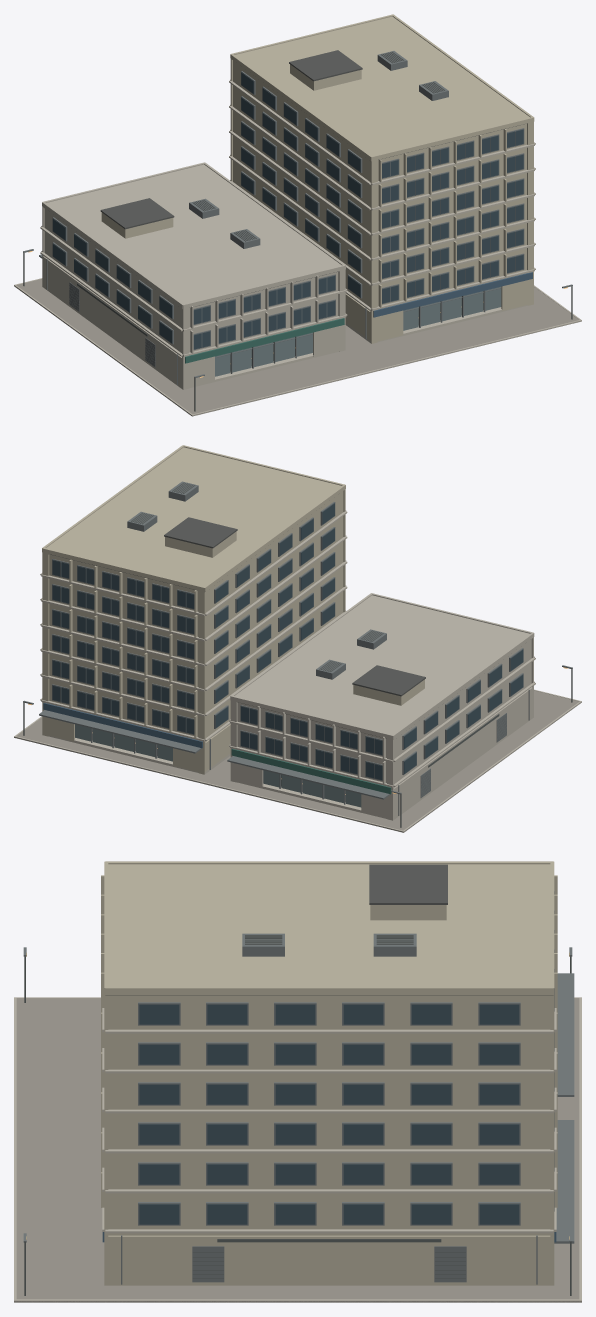
File: block-2-0.glb
The picture shows the model from 3 angles, top to bottom: view 1: azimuth 30°, elevation 25°; view 2: azimuth 150°, elevation 25°; view 3: azimuth 270°, elevation 25°; orthographic projection. The views are drawn at different scales.
Parts seen in each view (by area): view 1: block-2-0:stucco, block-2-0:concrete, block-2-0:glass, block-2-0:paversGrey, block-2-0:aluminium, block-2-0:shopGlass, block-2-0:roof, block-2-0:darkSteel, block-2-0:greenTrim, block-2-0:blueTrim; view 2: block-2-0:stucco, block-2-0:concrete, block-2-0:glass, block-2-0:aluminium, block-2-0:paversGrey, block-2-0:roof, block-2-0:shopGlass, block-2-0:darkSteel, block-2-0:greenTrim, block-2-0:blueTrim; view 3: block-2-0:stucco, block-2-0:paversGrey, block-2-0:glass, block-2-0:aluminium, block-2-0:concrete, block-2-0:roof, block-2-0:darkSteel.
Boxes of the visible parts, x1,y1,x2,y2 form: block-2-0:stucco: [101, 14, 534, 343]; block-2-0:concrete: [14, 79, 581, 416]; block-2-0:glass: [52, 72, 523, 349]; block-2-0:paversGrey: [14, 279, 580, 416]; block-2-0:aluminium: [23, 51, 572, 385]; block-2-0:shopGlass: [215, 286, 501, 376]; block-2-0:roof: [100, 50, 527, 306]; block-2-0:darkSteel: [23, 51, 572, 411]; block-2-0:greenTrim: [185, 318, 344, 363]; block-2-0:blueTrim: [373, 272, 532, 317]; block-2-0:stucco: [42, 445, 424, 774]; block-2-0:concrete: [14, 510, 581, 832]; block-2-0:glass: [52, 503, 523, 780]; block-2-0:aluminium: [23, 481, 572, 815]; block-2-0:paversGrey: [14, 690, 581, 832]; block-2-0:roof: [48, 517, 425, 738]; block-2-0:shopGlass: [75, 724, 361, 807]; block-2-0:darkSteel: [23, 482, 572, 827]; block-2-0:greenTrim: [231, 748, 391, 794]; block-2-0:blueTrim: [43, 703, 202, 748]; block-2-0:stucco: [101, 861, 557, 1285]; block-2-0:paversGrey: [14, 998, 581, 1302]; block-2-0:glass: [139, 1004, 519, 1224]; block-2-0:aluminium: [23, 891, 574, 1284]; block-2-0:concrete: [14, 997, 581, 1302]; block-2-0:roof: [105, 864, 553, 995]; block-2-0:darkSteel: [24, 935, 571, 1295].
Bounding box in the file's own units: 48 × 23.31 × 38.
